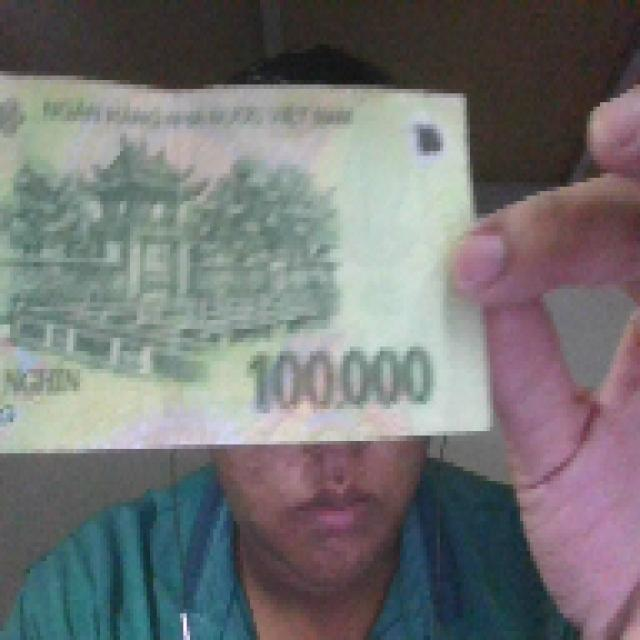100 000 VND: (0, 63, 497, 454)
